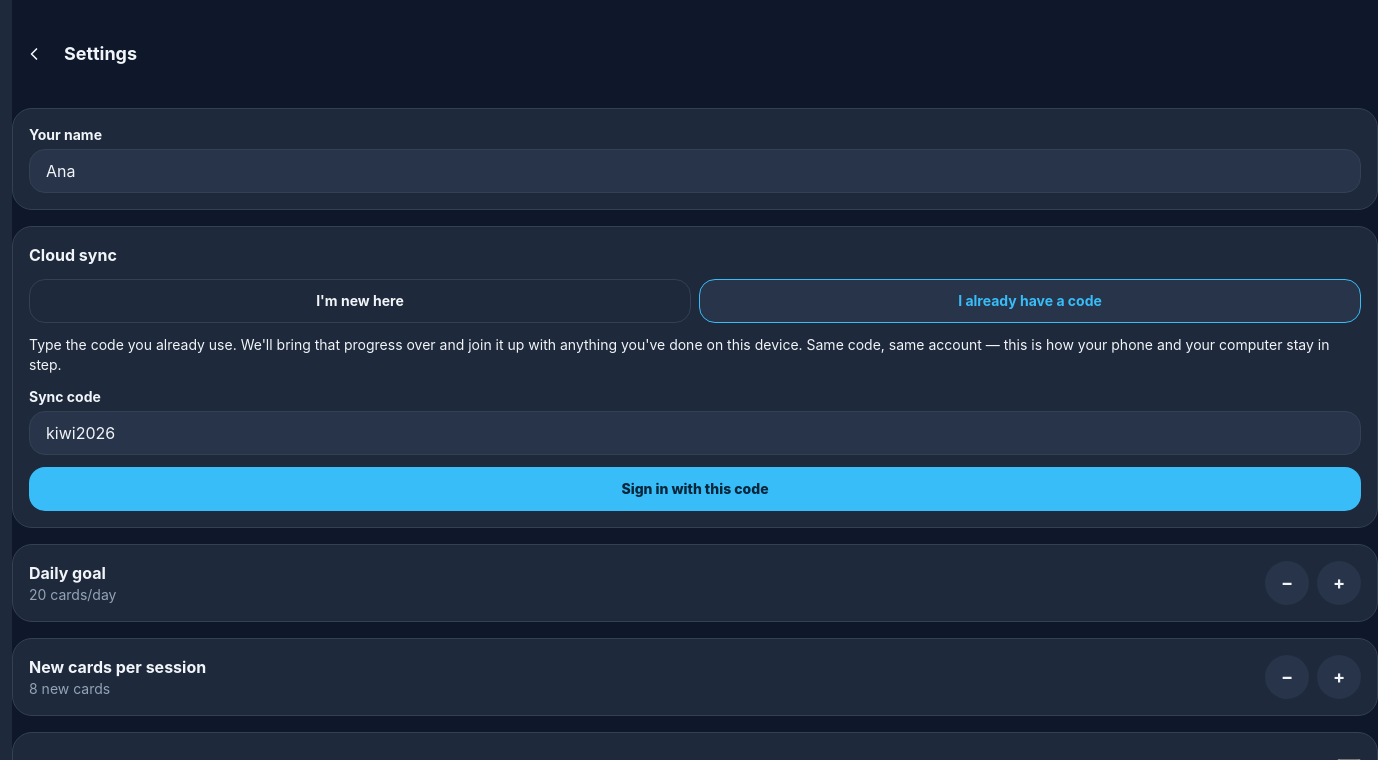
Test case: Settings with Supabase configured › routes a changed code through sign-in, not a blind overwrite
Replace the text in the field labelled "Sync code" with "tui2027" at (695, 433), box [29,411,1361,455]
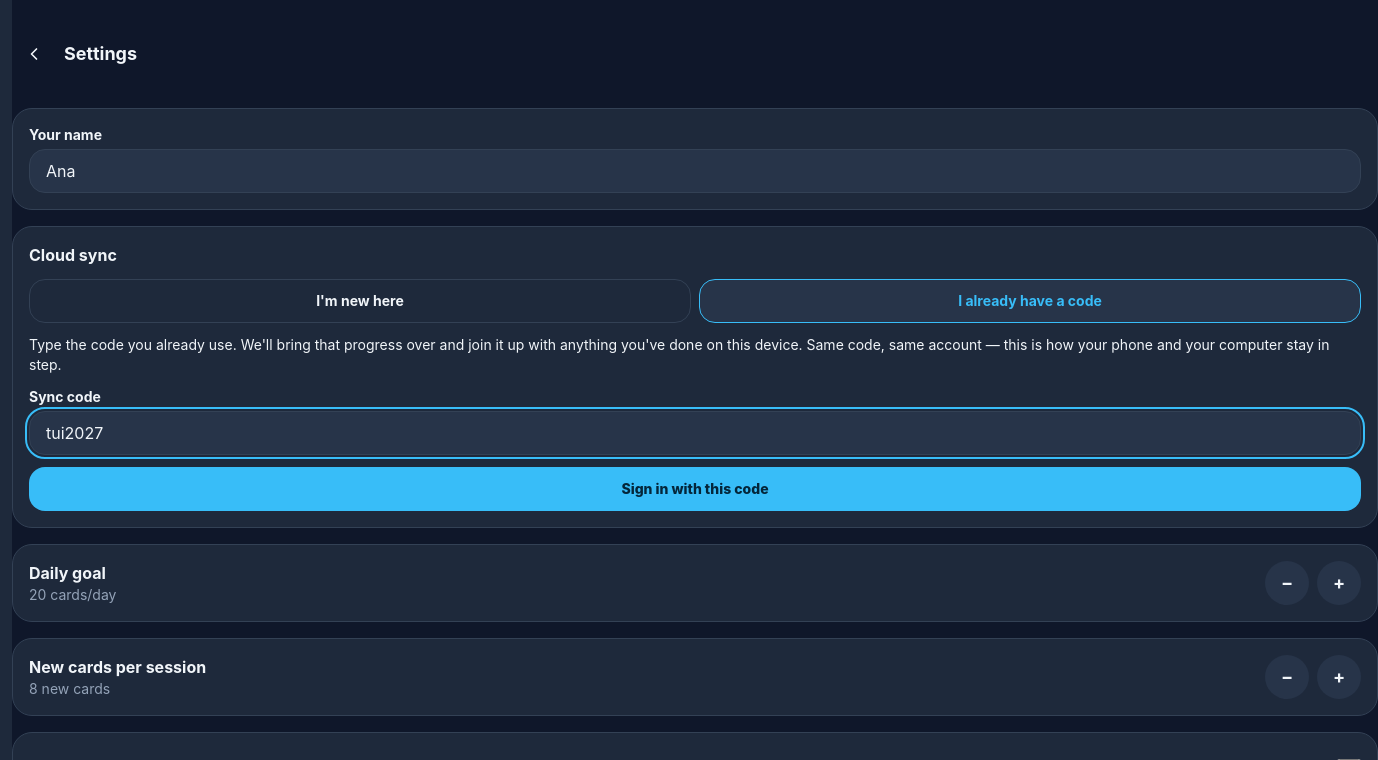
Click the button "Sign in with this code" at (695, 489), box [29,467,1361,511]
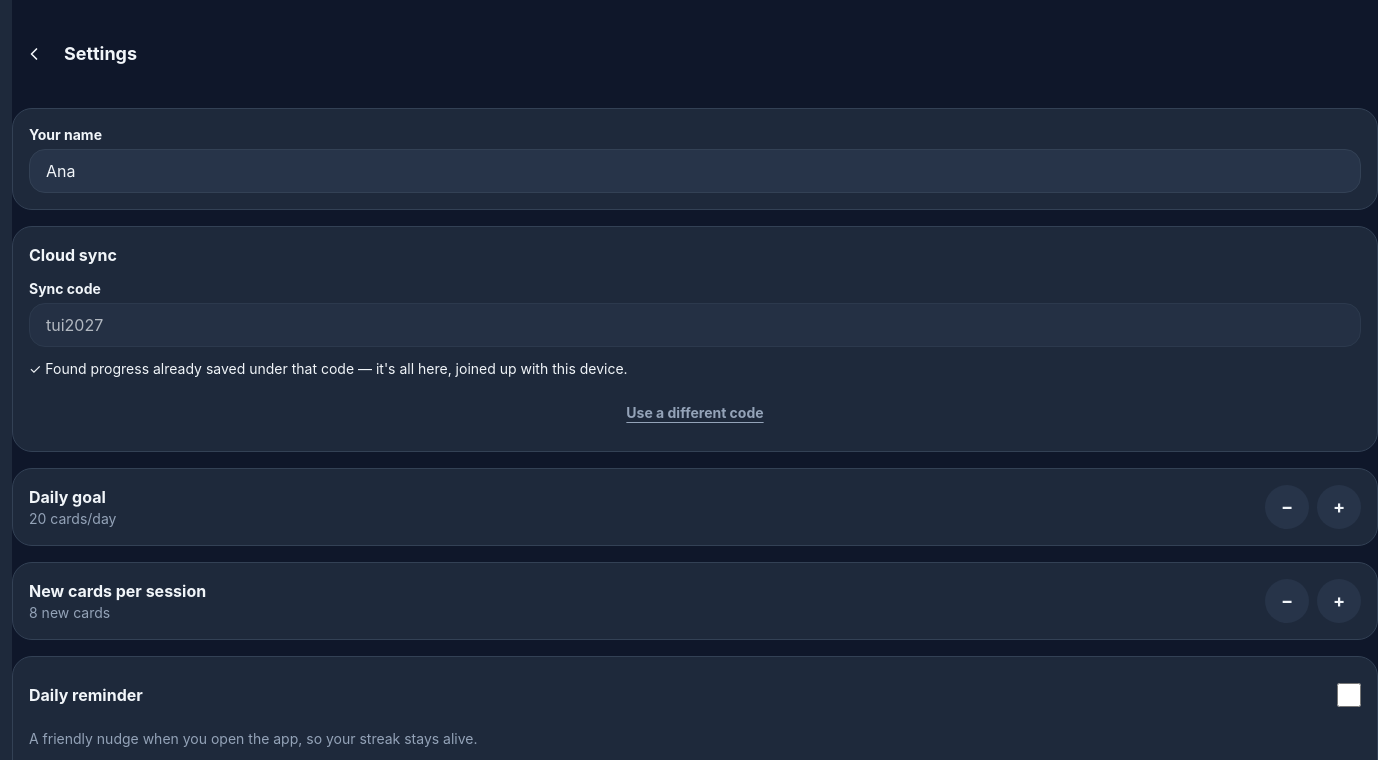
Expected: the text "Found progress already saved under that code" is shown, [29,360,628,377]
